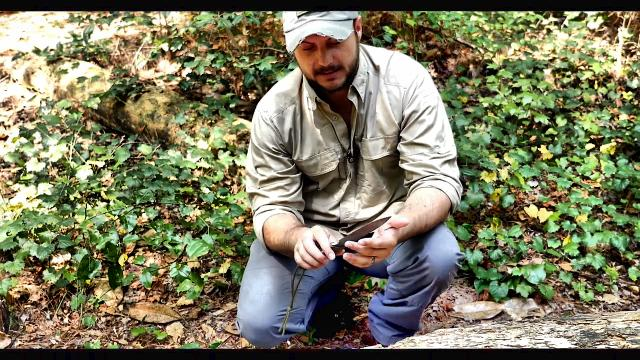knife: (293, 212, 397, 273)
